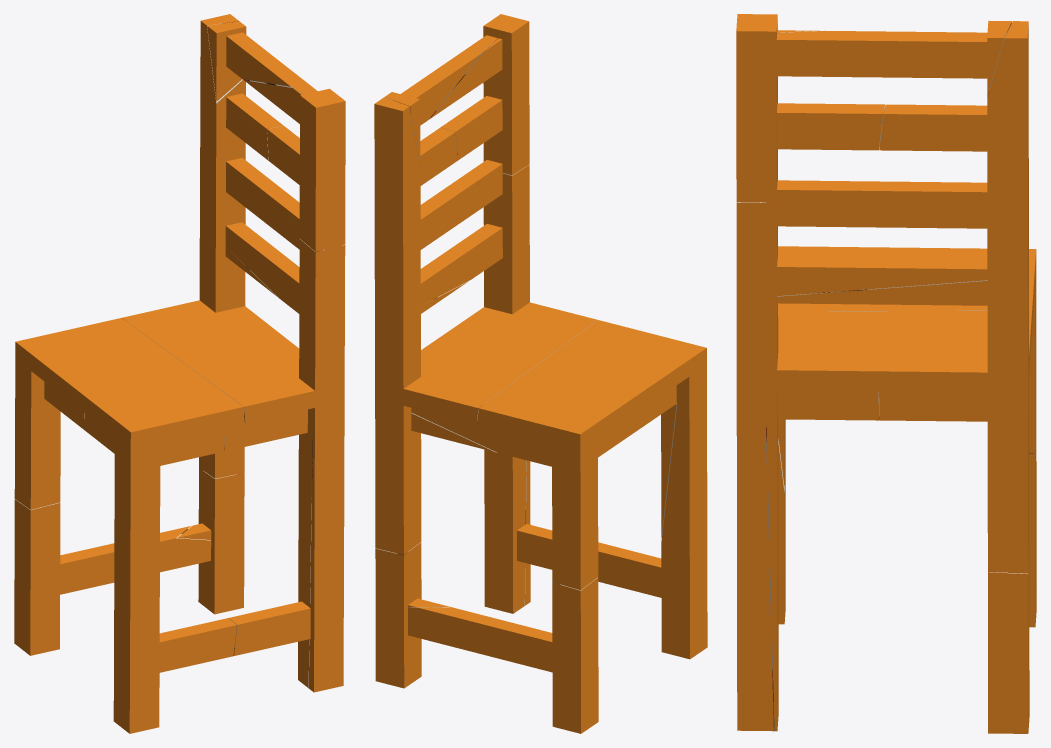
The model's file is Chair_DEST.fbx.
3 views of the same model, side by side, from view 1: azimuth 30°, elevation 25°; view 2: azimuth 150°, elevation 25°; view 3: azimuth 270°, elevation 25° (orthographic). The views are drawn at different scales.
Parts seen in each view (by area): view 1: model:mesh637848501.002_cell, model:mesh637848501.002_cell.001, model:mesh637848501.006_cell.001, model:mesh637848501.001_cell.001, model:mesh637848501.009_cell, model:mesh637848501.004_cell.001, model:mesh637848501.012_cell, model:mesh637848501.005_cell, model:mesh637848501.004_cell, model:mesh637848501.012_cell.001, model:mesh637848501.010_cell.001, model:mesh637848501.015_cell (+15 smaller); view 2: model:mesh637848501.002_cell, model:mesh637848501.009_cell, model:mesh637848501.002_cell.001, model:mesh637848501.006_cell.001, model:mesh637848501.004_cell.001, model:mesh637848501.001_cell, model:mesh637848501.005_cell.001, model:mesh637848501.004_cell, model:mesh637848501.010_cell.001, model:mesh637848501.005_cell, model:mesh637848501.012_cell, model:mesh637848501.012_cell.001 (+15 smaller); view 3: model:mesh637848501.002_cell.001, model:mesh637848501.009_cell, model:mesh637848501.001_cell.001, model:mesh637848501.015_cell, model:mesh637848501.014_cell, model:mesh637848501.012_cell, model:mesh637848501.012_cell.001, model:mesh637848501.005_cell.001, model:mesh637848501.005_cell, model:mesh637848501.013_cell, model:mesh637848501.016_cell, model:mesh637848501.016_cell.001 (+11 smaller).
Part boxes in pixels (<box>): model:mesh637848501.002_cell: <box>15,318,244,448</box>; model:mesh637848501.002_cell.001: <box>122,300,344,423</box>; model:mesh637848501.006_cell.001: <box>113,437,160,733</box>; model:mesh637848501.001_cell.001: <box>308,401,344,692</box>; model:mesh637848501.009_cell: <box>199,14,245,312</box>; model:mesh637848501.004_cell.001: <box>14,499,60,655</box>; model:mesh637848501.012_cell: <box>299,88,345,251</box>; model:mesh637848501.005_cell: <box>198,468,244,614</box>; model:mesh637848501.004_cell: <box>14,359,60,509</box>; model:mesh637848501.012_cell.001: <box>299,239,345,390</box>; model:mesh637848501.010_cell.001: <box>18,525,211,601</box>; model:mesh637848501.015_cell: <box>226,158,341,269</box>; model:mesh637848501.002_cell: <box>477,320,706,450</box>; model:mesh637848501.009_cell: <box>374,97,420,393</box>; model:mesh637848501.002_cell.001: <box>375,302,597,424</box>; model:mesh637848501.006_cell.001: <box>661,365,707,659</box>; model:mesh637848501.004_cell.001: <box>552,577,598,733</box>; model:mesh637848501.001_cell: <box>484,449,526,613</box>; model:mesh637848501.005_cell.001: <box>375,398,421,554</box>; model:mesh637848501.004_cell: <box>552,439,598,590</box>; model:mesh637848501.010_cell.001: <box>408,607,594,680</box>; model:mesh637848501.005_cell: <box>375,542,421,688</box>; model:mesh637848501.012_cell: <box>483,14,529,175</box>; model:mesh637848501.012_cell.001: <box>483,164,529,314</box>; model:mesh637848501.002_cell.001: <box>736,310,1031,393</box>; model:mesh637848501.009_cell: <box>987,21,1028,378</box>; model:mesh637848501.001_cell.001: <box>736,390,773,731</box>; model:mesh637848501.015_cell: <box>777,180,987,228</box>; model:mesh637848501.014_cell: <box>776,30,1028,78</box>; model:mesh637848501.012_cell: <box>736,14,777,202</box>; model:mesh637848501.012_cell.001: <box>736,202,778,372</box>; model:mesh637848501.005_cell.001: <box>987,390,1029,573</box>; model:mesh637848501.005_cell: <box>988,559,1029,733</box>; model:mesh637848501.013_cell: <box>777,257,987,296</box>; model:mesh637848501.016_cell: <box>879,104,1028,151</box>; model:mesh637848501.016_cell.001: <box>777,103,884,150</box>.
Size of the model in its own units: 1.32 by 3.37 by 1.31.
